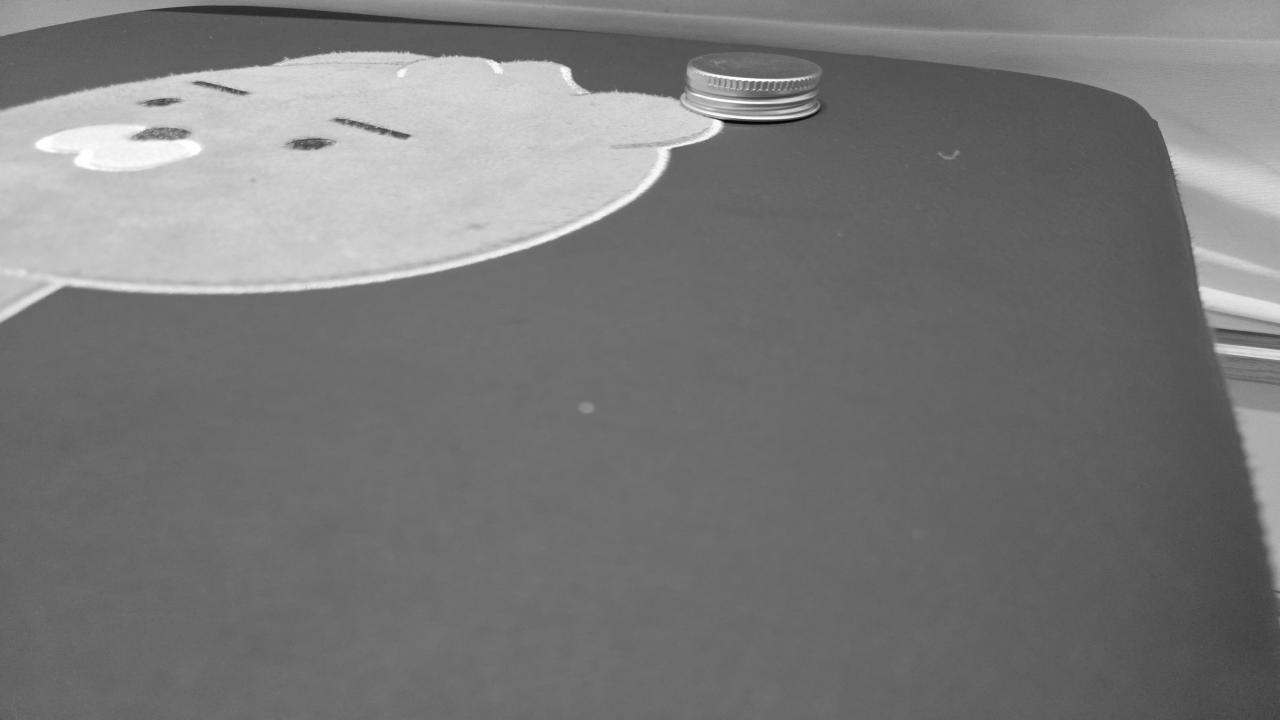bottle_cap: (678, 49, 830, 125)
